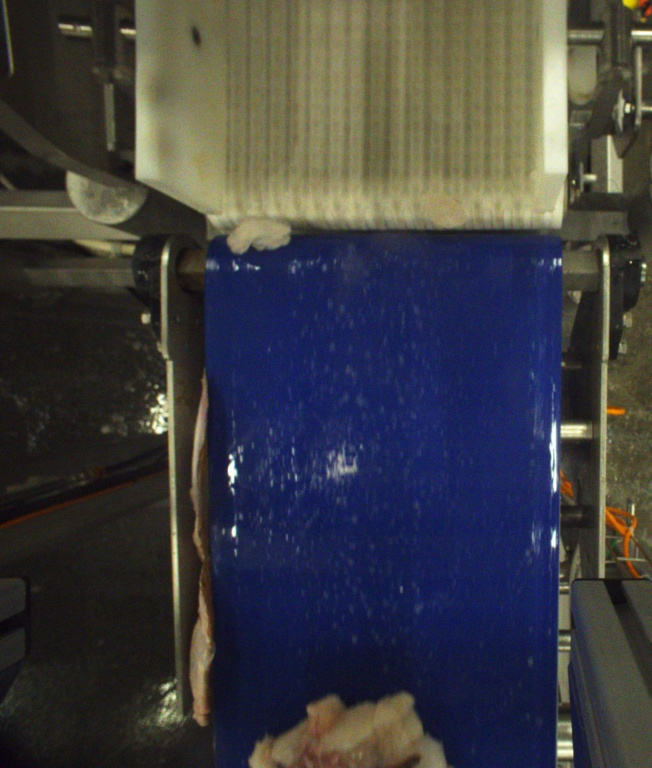ANF: (251, 691, 456, 768)
